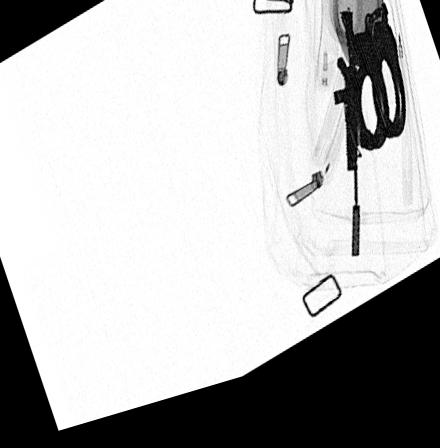Gun: (331, 31, 359, 276)
HandCuffs: (341, 22, 409, 177)
